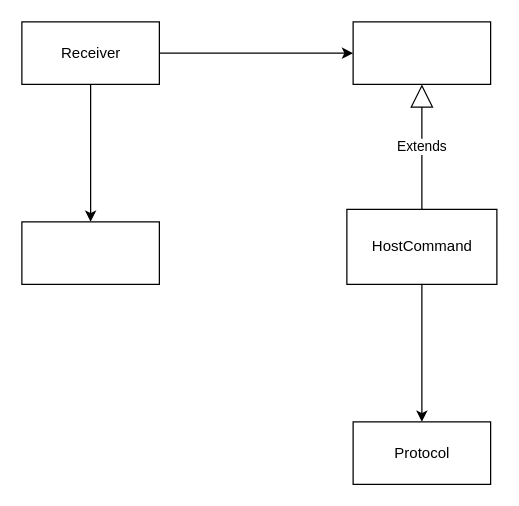
The diagram is 519 pixels wide and 506 high, and some of its shapes have lost their labels. Each missing label, with the centre of its shape:
Transfer: (x=90, y=252)
«interface» DataNotify: (x=421, y=52)
